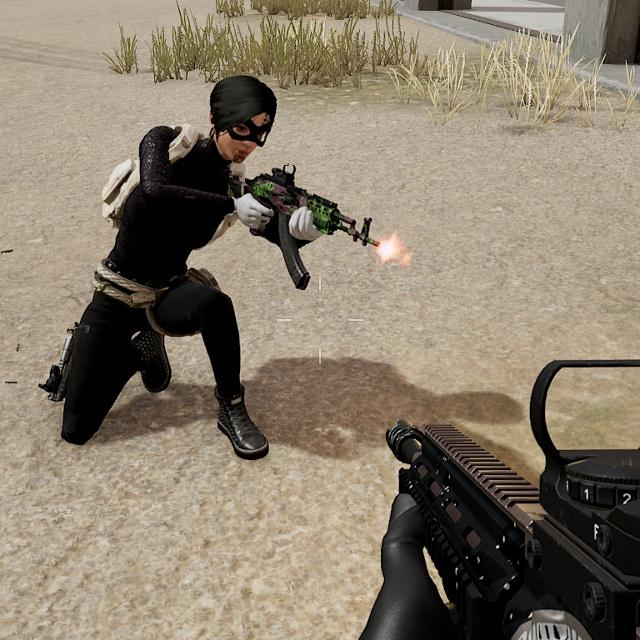head: (191, 69, 284, 172)
people: (38, 66, 324, 466)
